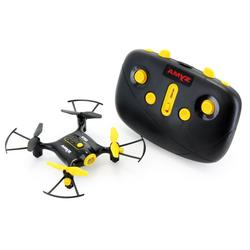drone: (3, 98, 148, 199)
